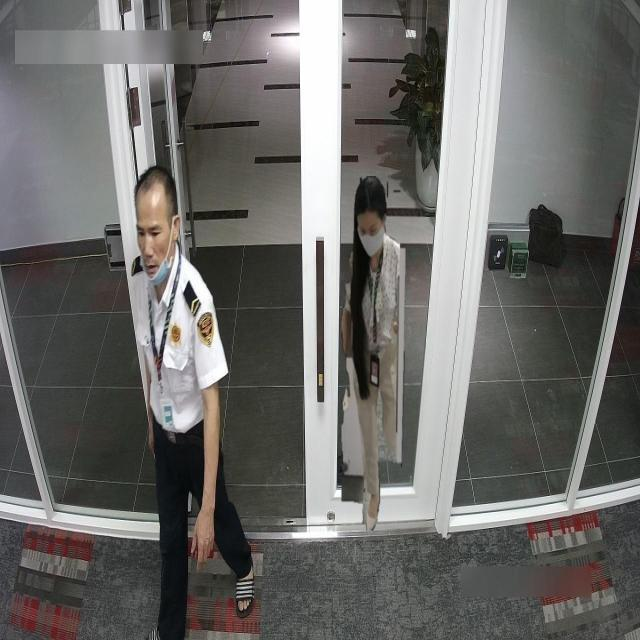hairnet: (130, 176, 178, 290)
